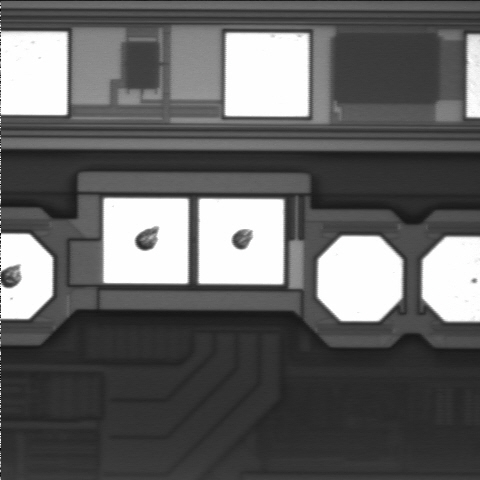pad: (199, 199, 284, 284), (104, 198, 188, 283), (318, 236, 402, 321), (225, 33, 309, 116)
